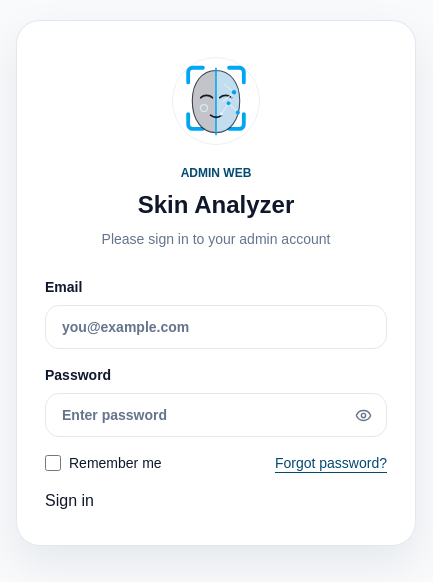
Test case: LoginPage auth behavior › shows a field validation error for invalid email
Type "not-an-email" into the field labelled "Email" at (216, 327), box [45, 305, 387, 349]
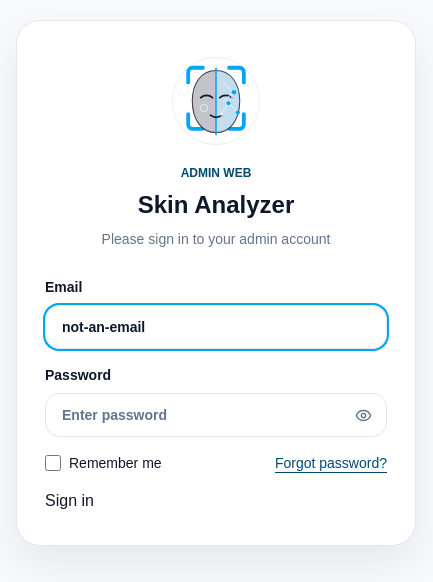
Type "test-password" into the password field labelled "Password" at (216, 415), box [45, 393, 387, 437]
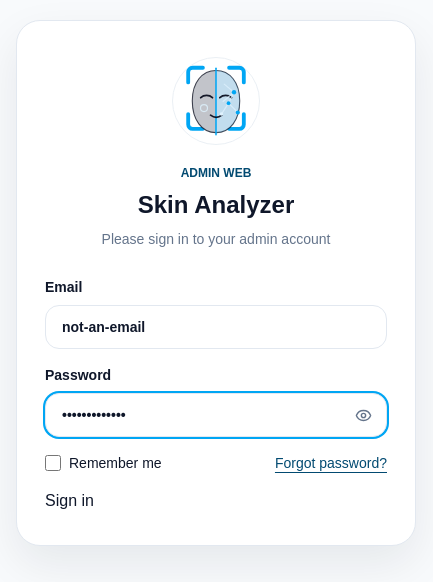
Click the button "Sign in" at (69, 501), box [45, 489, 94, 513]
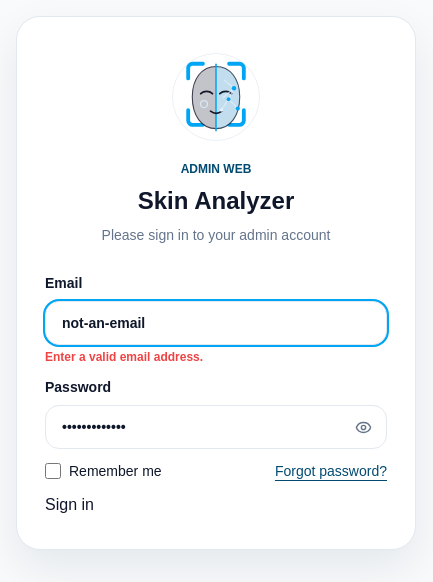
Result: the text "Enter a valid email address." is shown at [45, 350, 203, 364]
